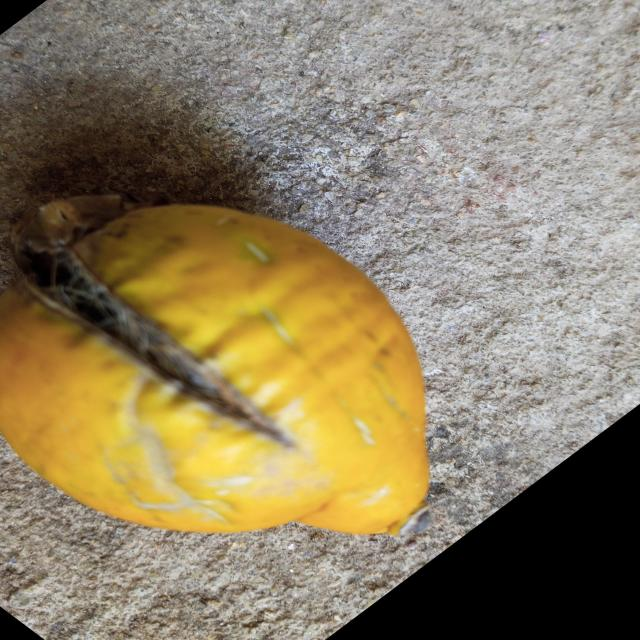damaged: (0, 197, 430, 538)
